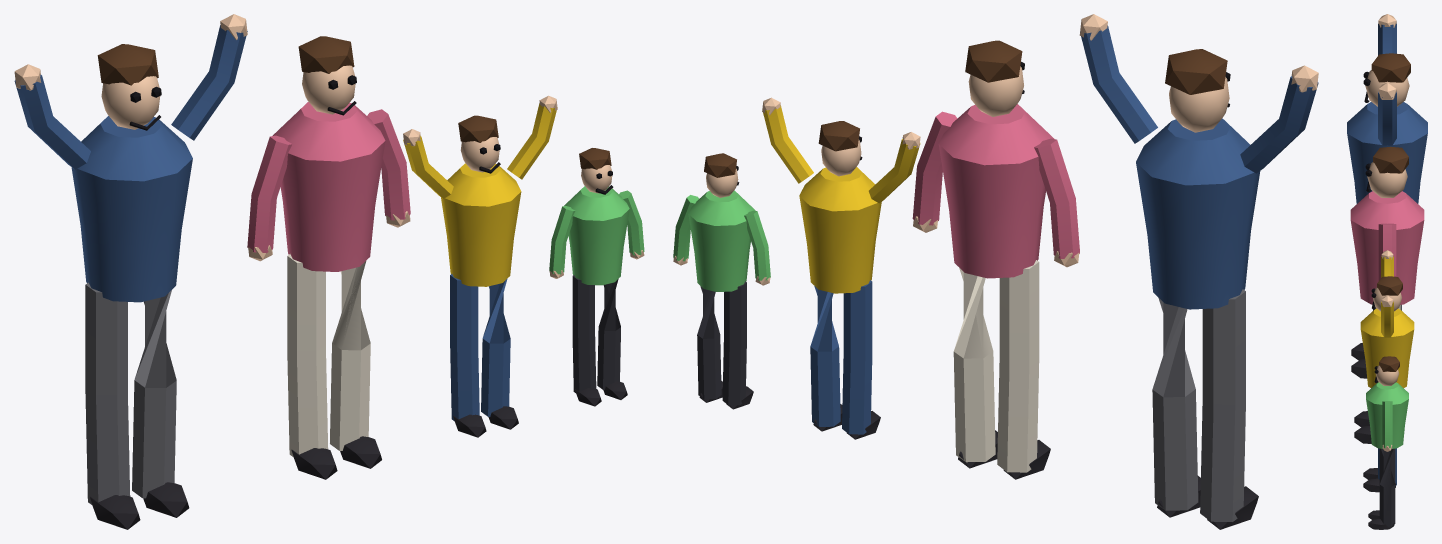
Rendered from lawn_family.glb.
3 views of the same model, side by side, from view 1: azimuth 30°, elevation 25°; view 2: azimuth 150°, elevation 25°; view 3: azimuth 270°, elevation 25° (orthographic). The views are drawn at different scales.
Visible parts, largest first — view 1: lawn_family; view 2: lawn_family; view 3: lawn_family.
Part boxes in pixels (x1,y1,x2,y2): lawn_family: (14, 14, 644, 529); lawn_family: (673, 14, 1318, 529); lawn_family: (1347, 14, 1427, 529).
Size of the model in its own units: 2.69 by 1.94 by 0.44.
